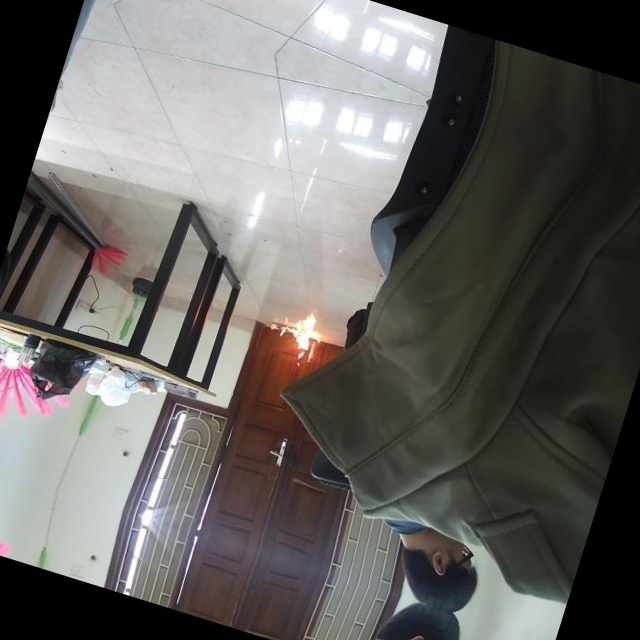fire: (259, 290, 343, 382)
